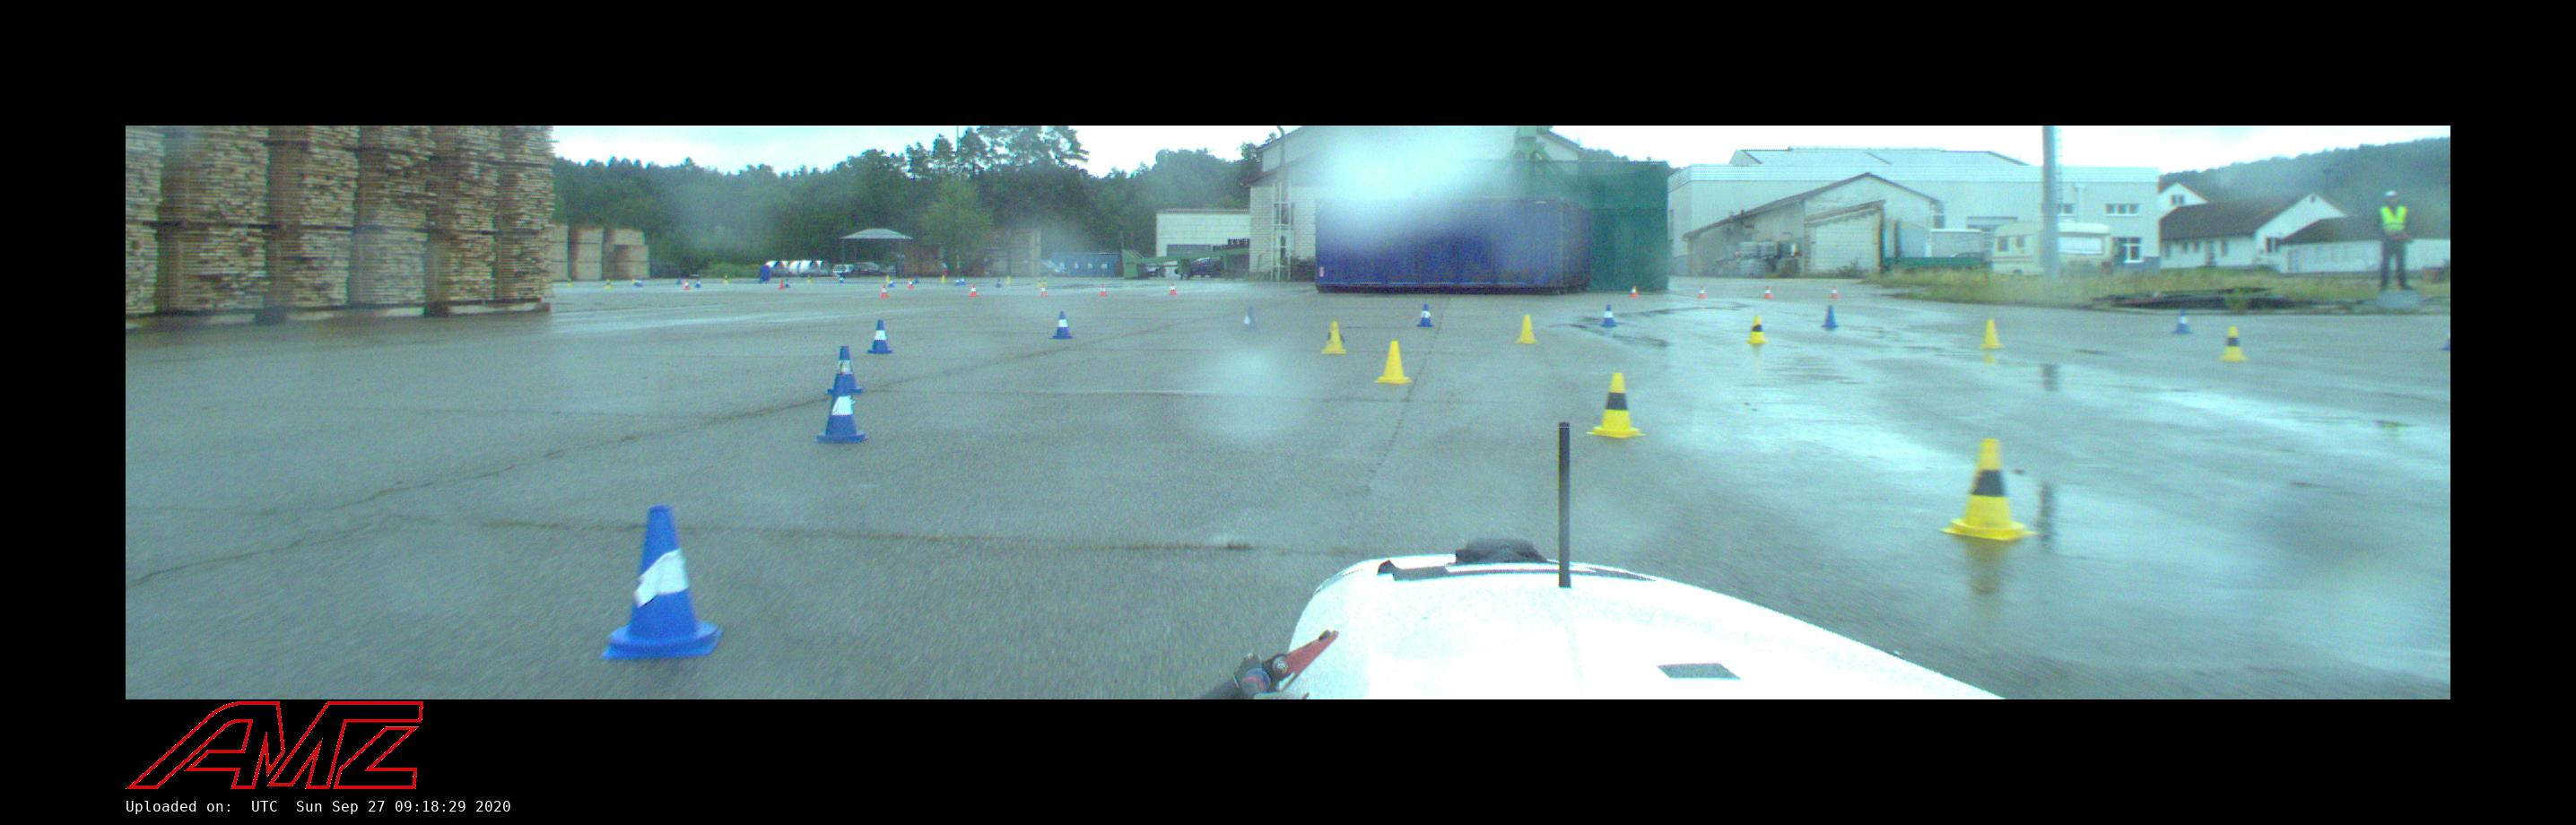blue_cone: (601, 506, 722, 657), (814, 381, 868, 443), (825, 347, 866, 395), (867, 320, 894, 353), (1240, 306, 1261, 336), (1050, 312, 1073, 339), (2173, 311, 2191, 334), (1417, 304, 1433, 326), (1822, 305, 1838, 327), (1600, 305, 1616, 326)
orange_cone: (1629, 286, 1639, 298), (970, 284, 979, 297), (881, 285, 889, 298), (1099, 285, 1108, 296), (1169, 284, 1178, 295), (1763, 287, 1772, 298), (1698, 287, 1707, 298), (1830, 287, 1839, 298), (1040, 285, 1047, 296), (683, 281, 691, 290)
yellow_cone: (1940, 439, 2032, 540), (1586, 373, 1646, 438), (1374, 341, 1412, 384), (2218, 327, 2247, 360), (1321, 322, 1346, 353), (1978, 320, 2003, 348), (1516, 315, 1537, 343), (1746, 316, 1767, 343), (605, 279, 612, 289)
